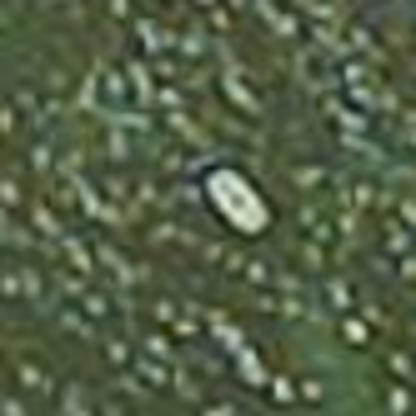ship: (183, 151, 290, 250)
